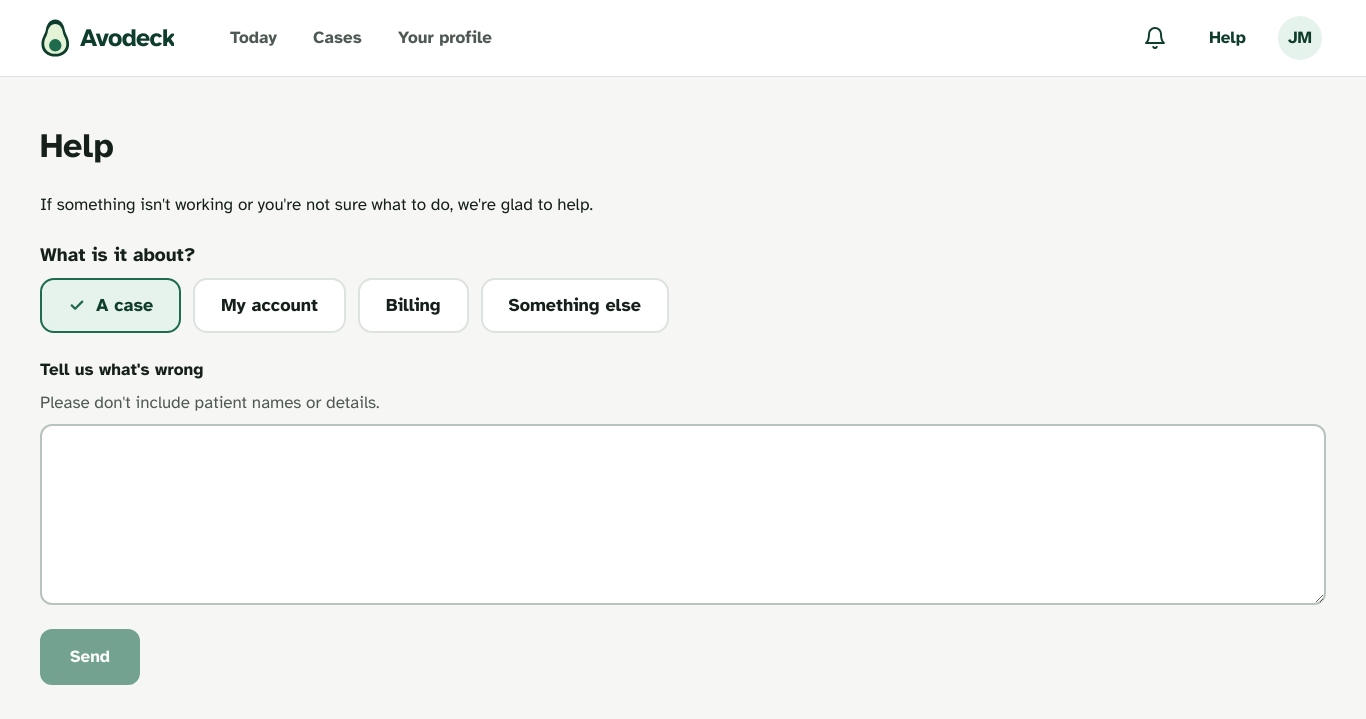
Test: it posts the topic, the words and the page, then says thanks
The width and height of the screenshot is (1366, 719).
Expected: the text "Please don't include patient names or details." is shown, [40,392,380,413]
Click the text "My account": (270, 305) [221,292,318,318]
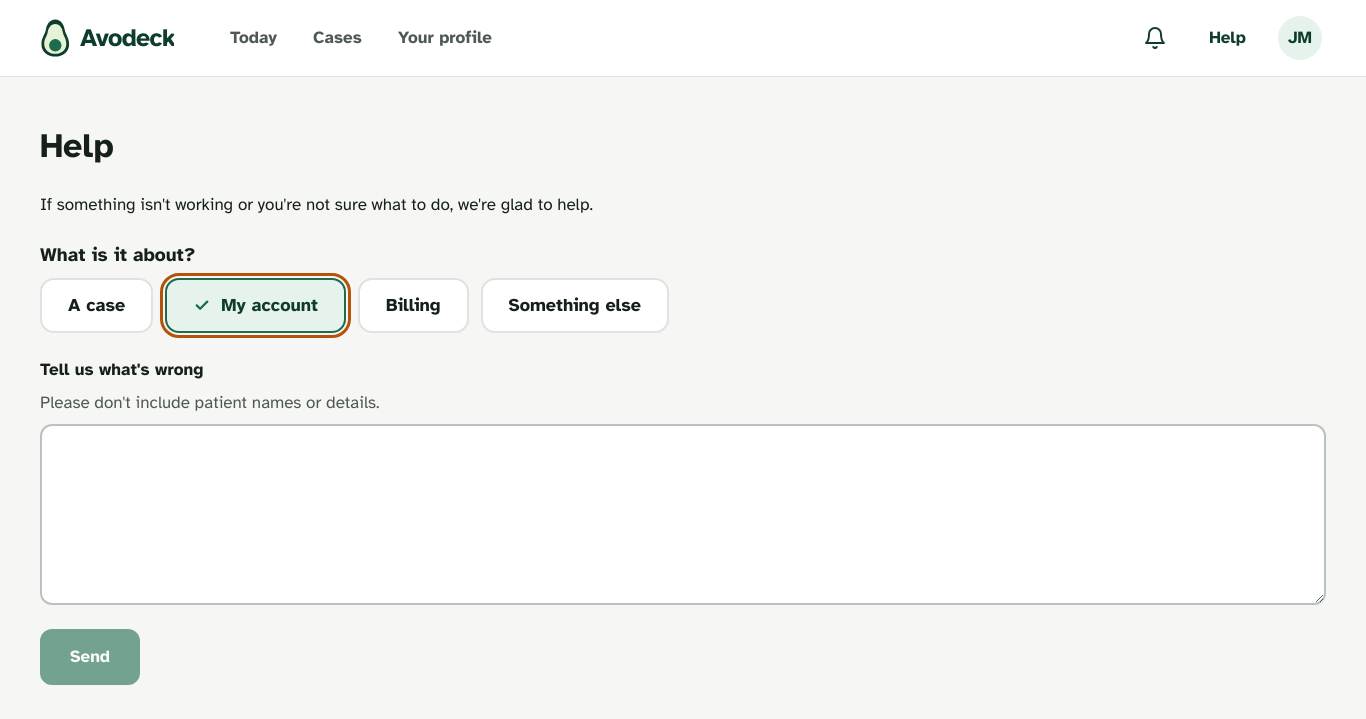
In the text box labelled "Tell us what's wrong": (683, 514) [40,424,1326,604], type "I cannot sign in"
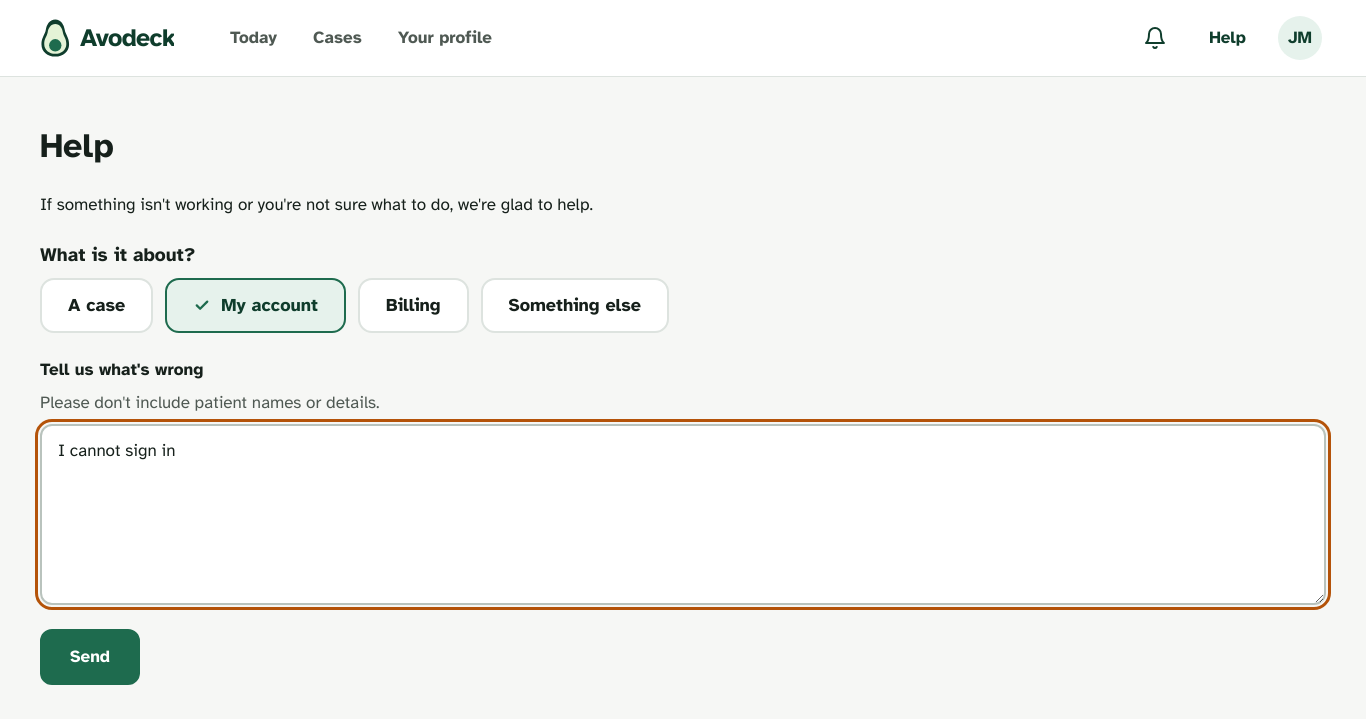
Click the button "Send": (90, 656) [40,628,140,684]
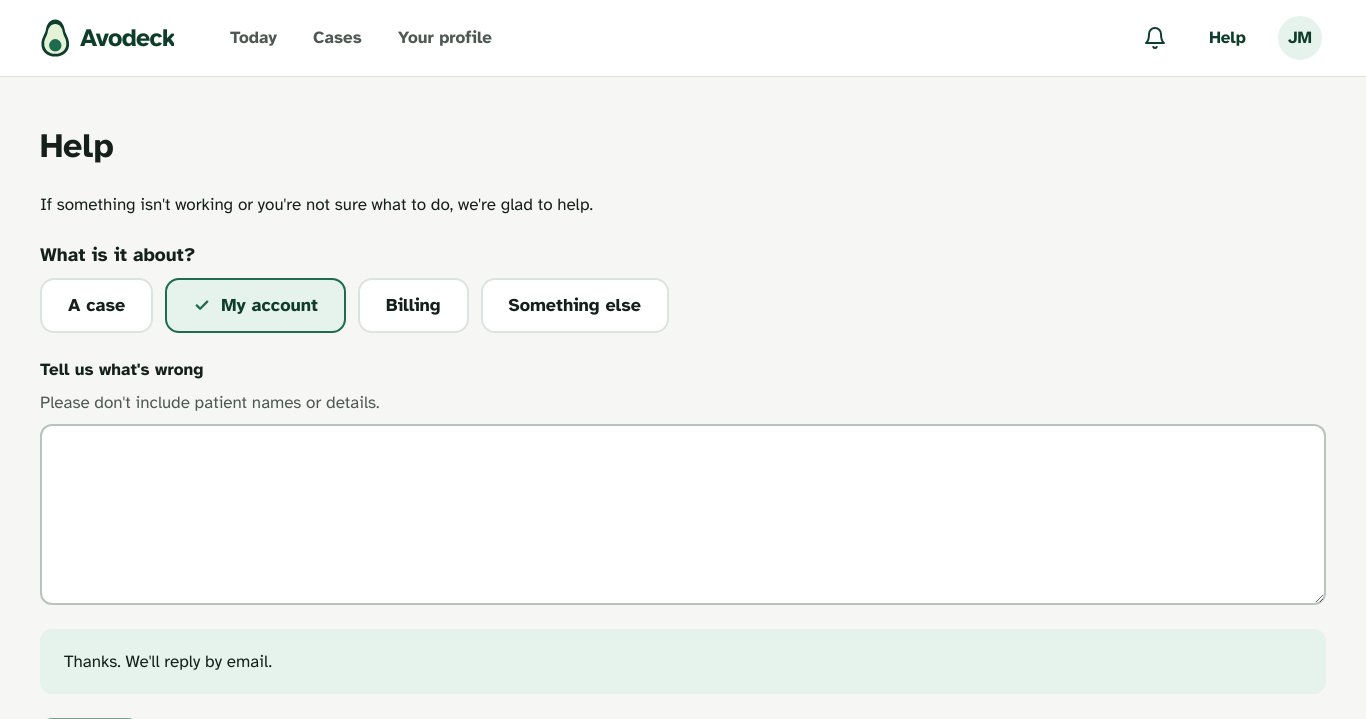
Now the text "Thanks. We'll reply by email." is shown, box [40,628,1326,694]
